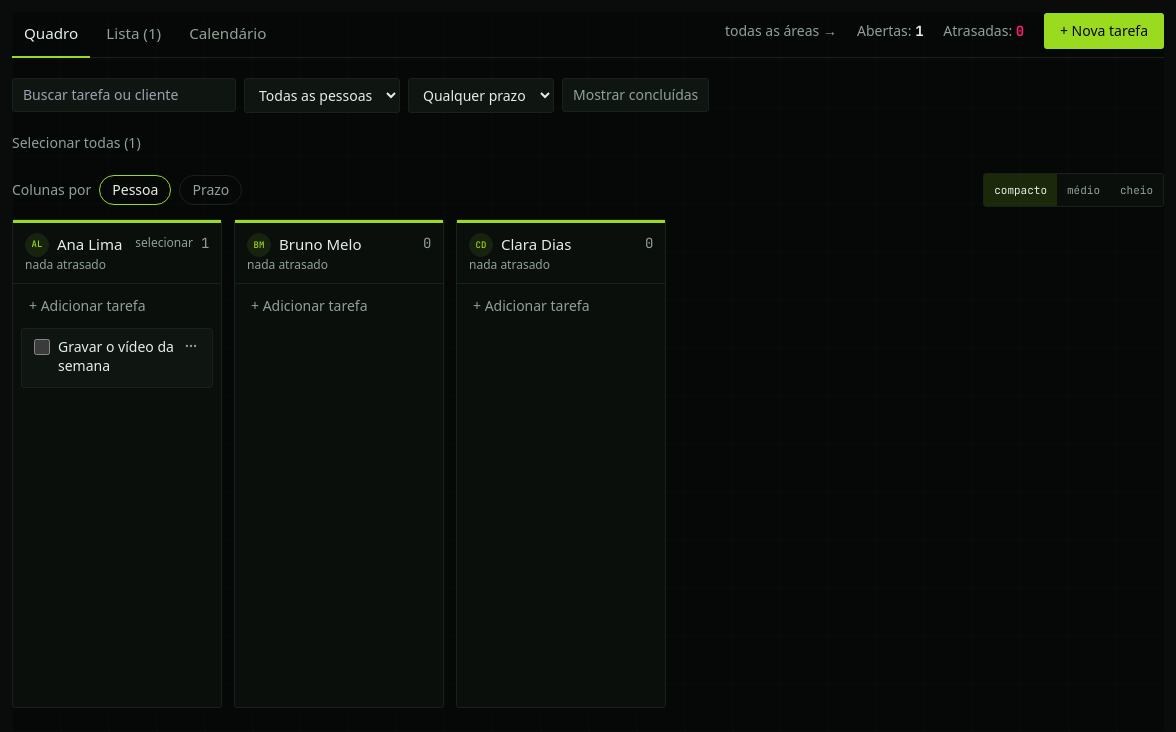
Test: TarefasDoDia no padrão do Trabalho › o quadro tem a densidade de todo quadro e as colunas crescem com a página
Expected: the text "Gravar o vídeo da semana" is shown, [58,337,174,375]
Expected: the text "Detalhe da tarefa" is not shown
Step 1. Click the button with test id "dia-densidade-cheio" → coordinates (1136, 190), box [1110,174,1163,206]
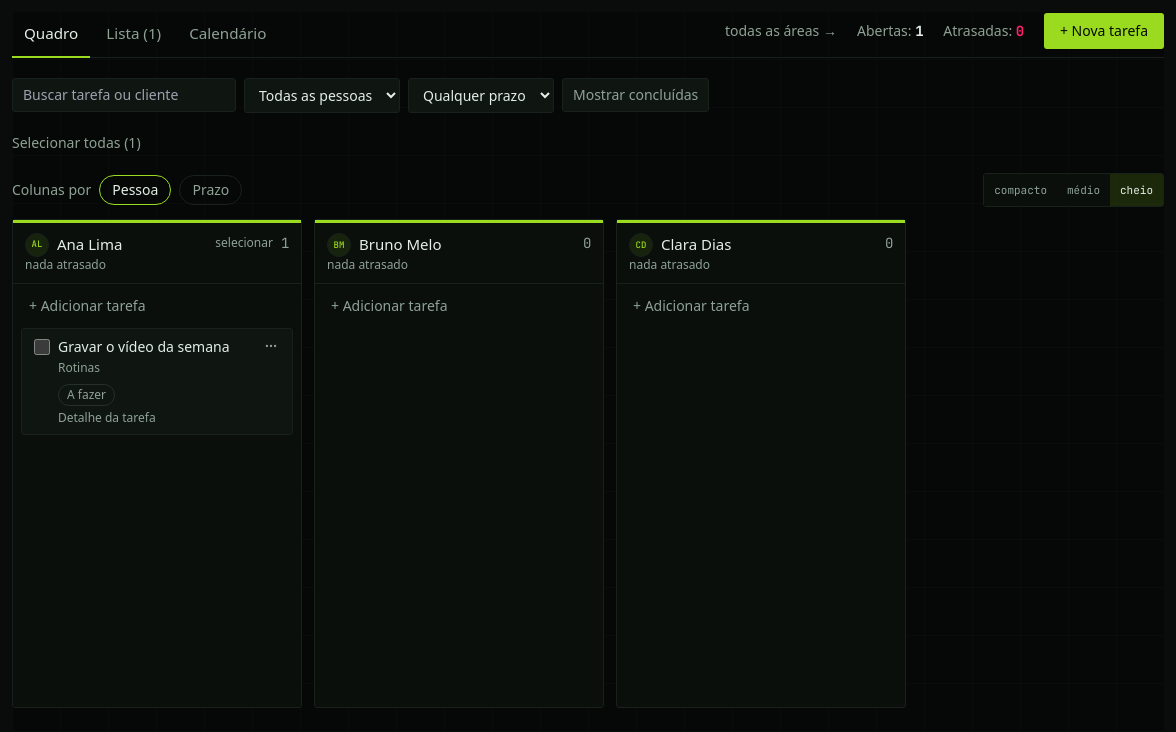
Expected: the text "Detalhe da tarefa" is shown, [58,409,156,426]
